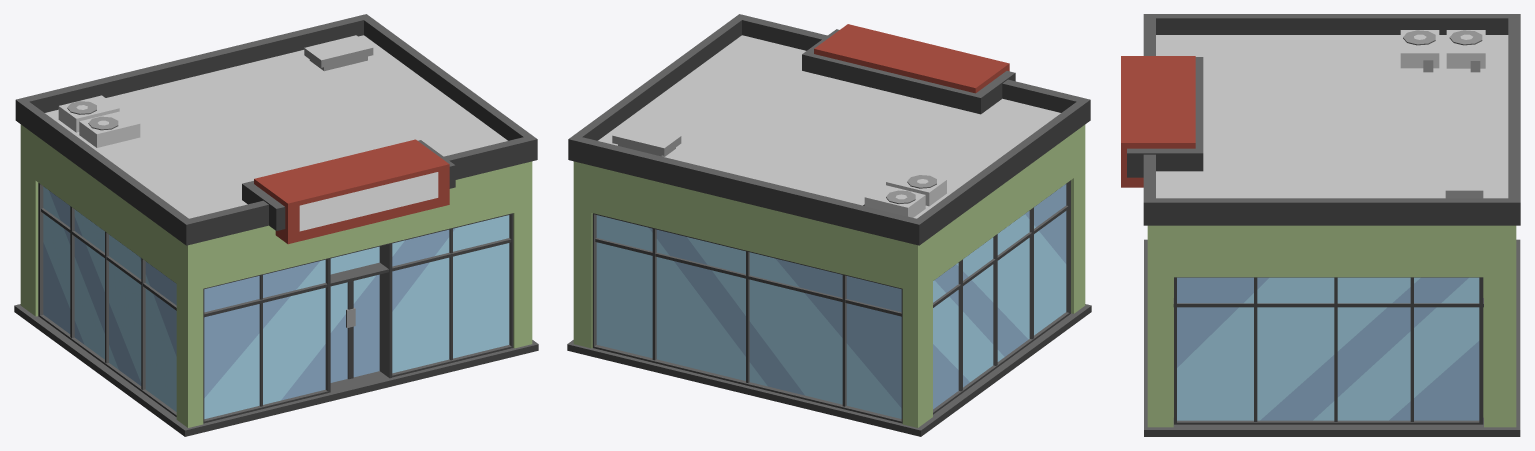
Rendered from supermarket_005.fbx.
3 views of the same model, side by side, from view 1: azimuth 30°, elevation 25°; view 2: azimuth 150°, elevation 25°; view 3: azimuth 270°, elevation 25° (orthographic). The views are drawn at different scales.
Visible parts, largest first — view 1: supermarket_005; view 2: supermarket_005; view 3: supermarket_005.
Boxes of the visible parts, <box> form: supermarket_005: <box>14,14,538,436</box>; supermarket_005: <box>567,14,1091,436</box>; supermarket_005: <box>1121,14,1520,436</box>.
Size of the model in its own units: 682 by 402 by 606.
